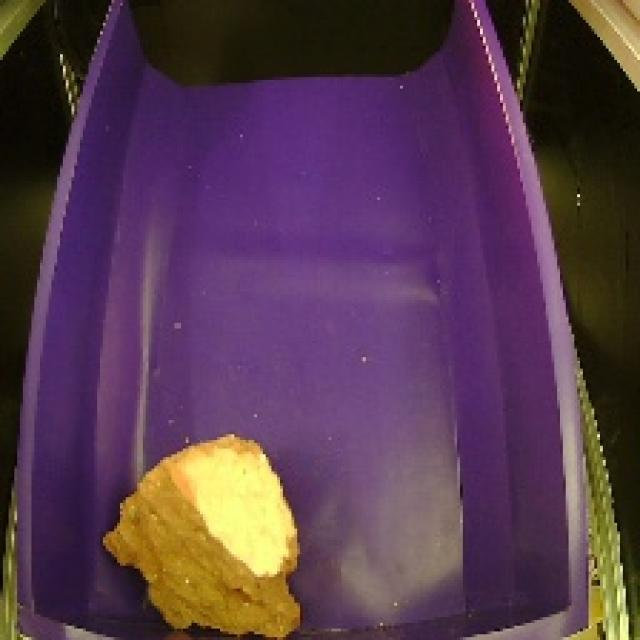brick: (94, 423, 313, 640)
